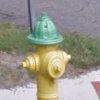Hydrant: (16, 8, 93, 100)
